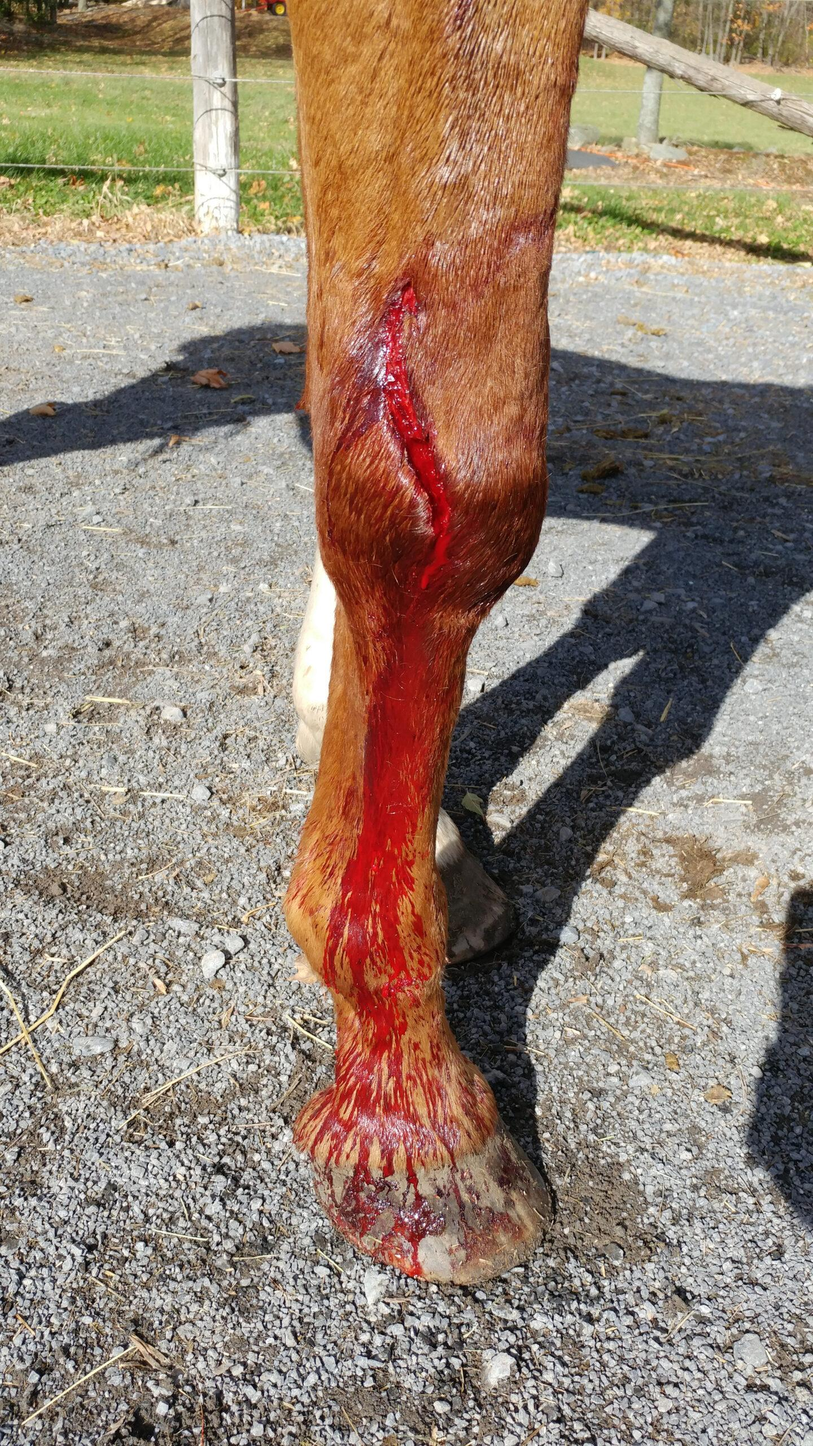bleeding: (294, 314, 533, 1297)
